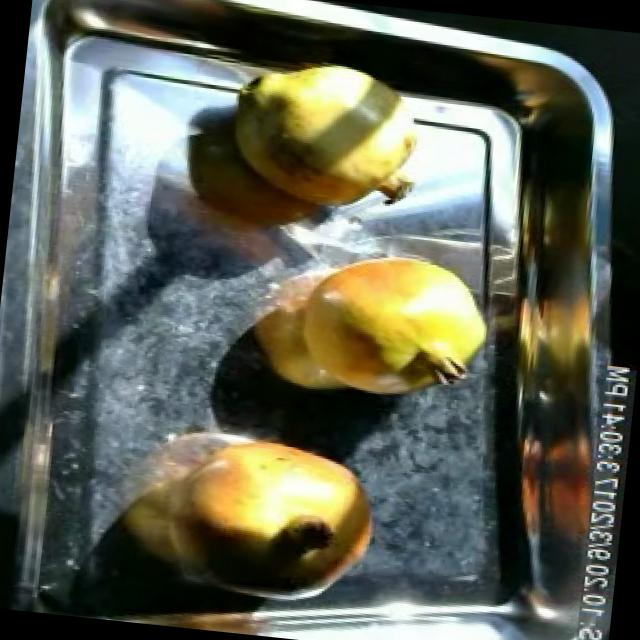fruit: (120, 413, 402, 614), (280, 235, 506, 414), (214, 49, 433, 228)
